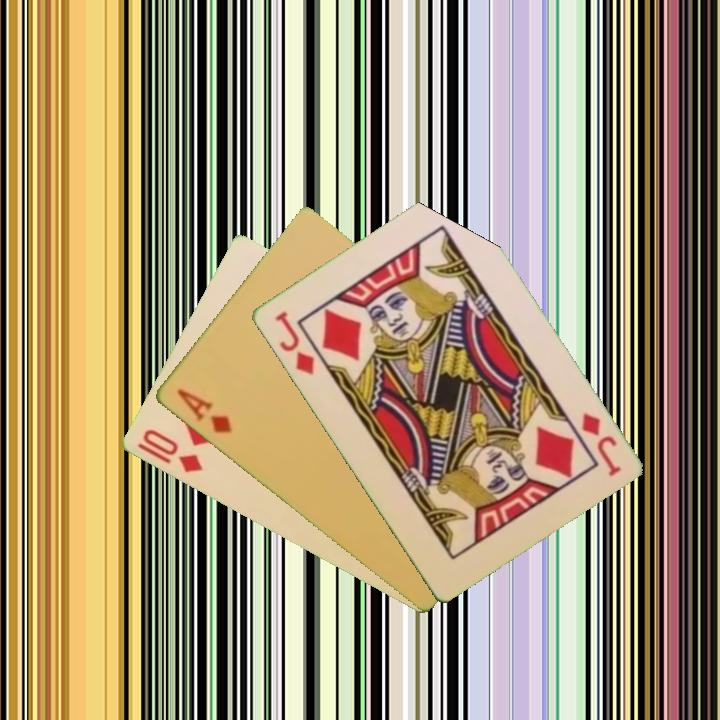10d: (138, 425, 206, 476)
Ad: (172, 385, 234, 437)
Jd: (270, 307, 317, 378), (577, 409, 624, 480)
